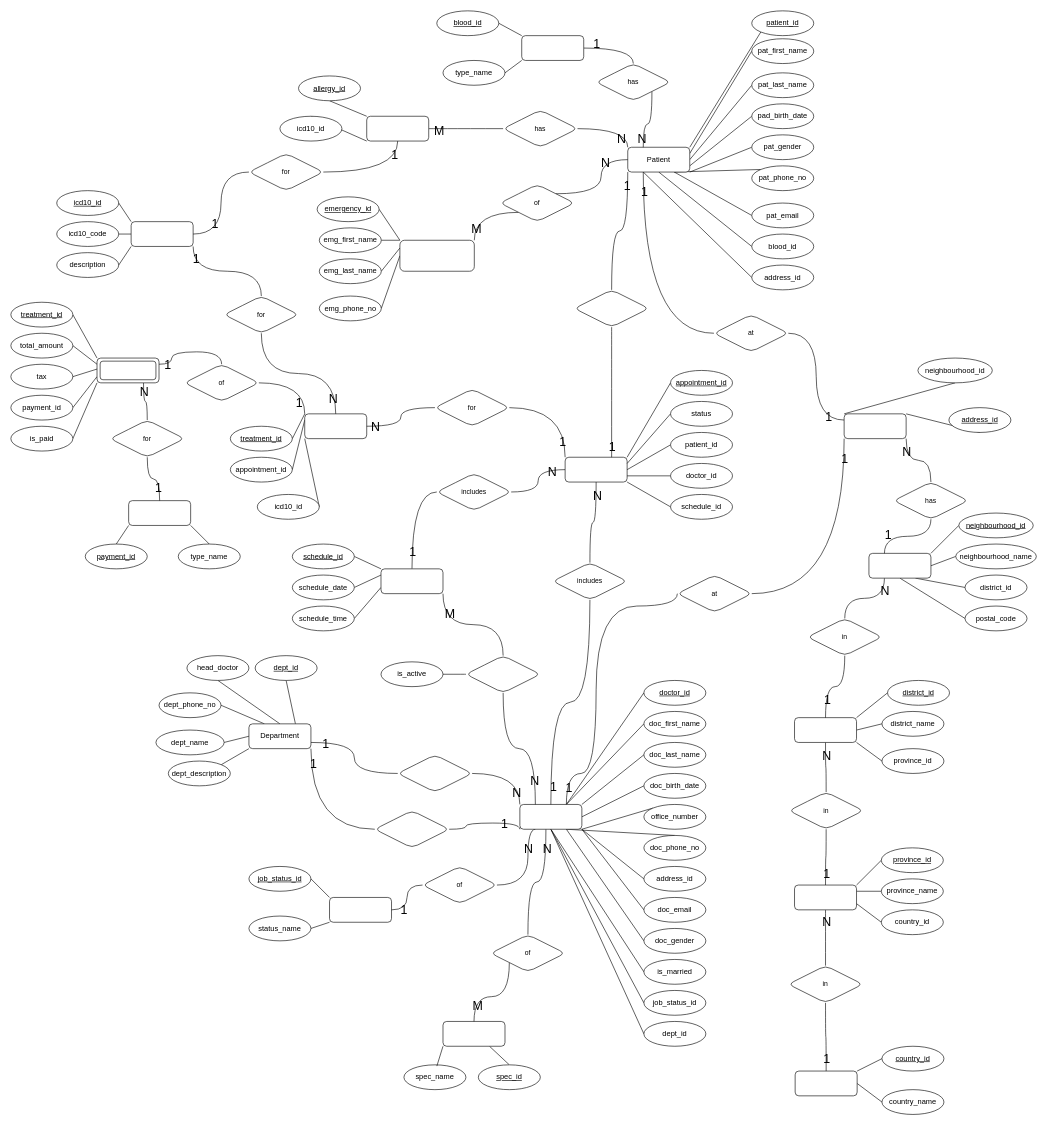
This 1047x1125 diagram has some shape labels left out. The shapes that lost their labels are listed below. From the top down, each one's box as (x1, y1, x2, y2) in pixels, then its label:
(521, 35, 584, 60): Blood_Type
(366, 116, 429, 141): Allergy
(131, 221, 193, 246): ICD10
(399, 240, 474, 271): Emergency_Person
(574, 289, 649, 327): books
(96, 357, 159, 383): Bill
(304, 413, 367, 439): Treatment
(844, 413, 906, 439): Address
(565, 457, 627, 482): Appointment
(128, 500, 191, 525): Payment_Method
(380, 568, 443, 594): Schedule
(868, 553, 931, 578): Neighbourhood
(465, 655, 540, 693): assigned to
(794, 717, 857, 742): District
(397, 754, 472, 792): works on
(374, 810, 449, 848): head of
(519, 804, 582, 829): Doctor
(329, 897, 392, 922): Job_Status
(794, 884, 857, 910): Province
(442, 1021, 505, 1046): Specialization
(795, 1070, 857, 1096): Country
